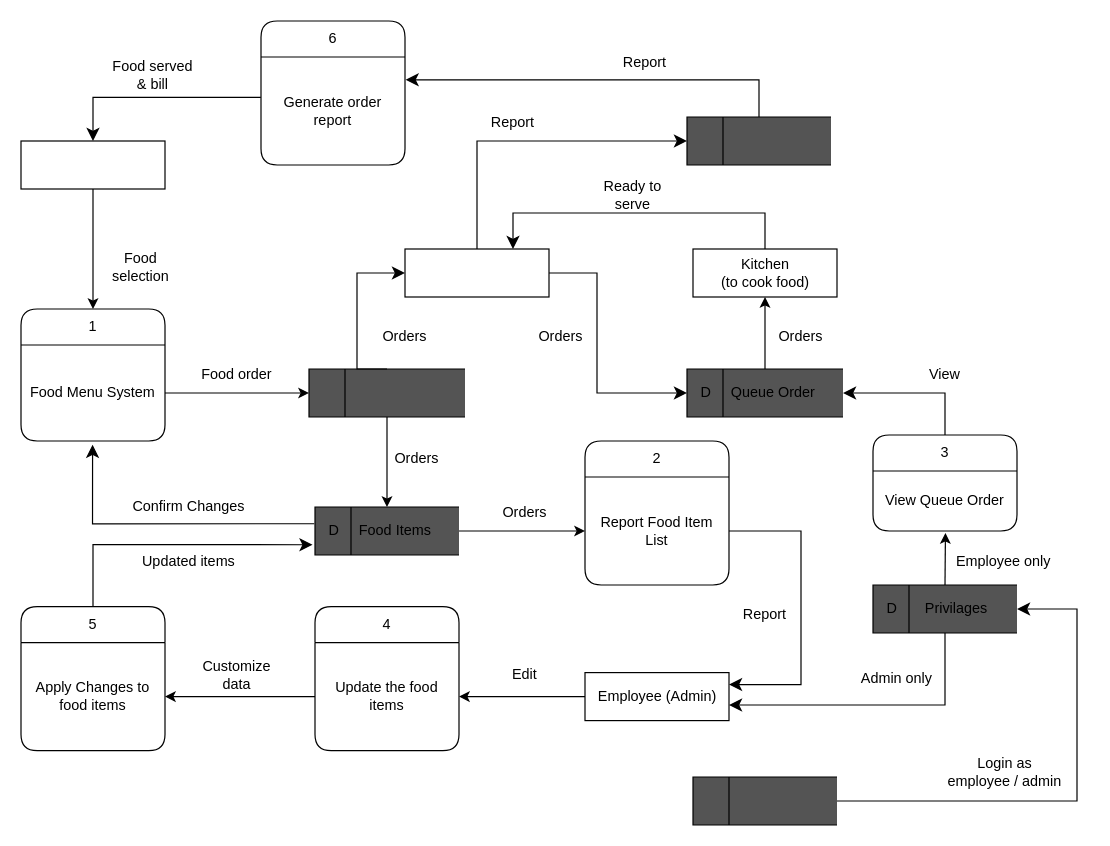
Image size: 1110x846. Some labels were removed from this diagram. The centre of each missing label's shape, as x and y in pixels:
"Customers" belongs at (92,164).
"D Employees" belongs at (764,800).
"D Food Order List" belongs at (386,392).
"D Order Report" belongs at (758,140).
"Employee (Waiter)" belongs at (476,272).
